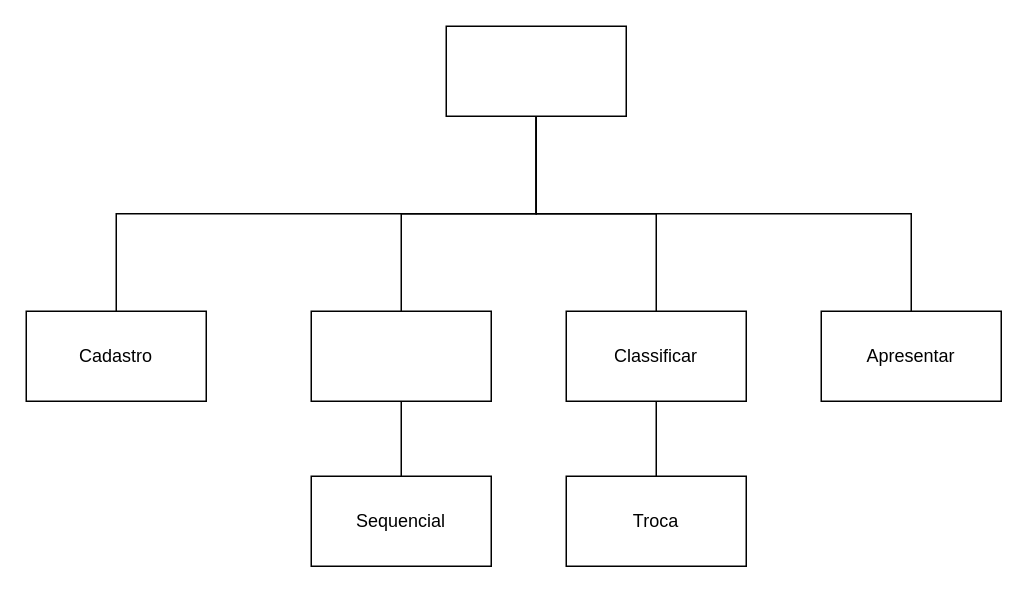
The diagram is 1028 pixels wide and 593 high, and some of its shapes have lost their labels. The centre of each missing label's shape, as x and y in pixels:
"Menu" belongs at point (535, 70).
"Pesquisar" belongs at point (400, 355).
